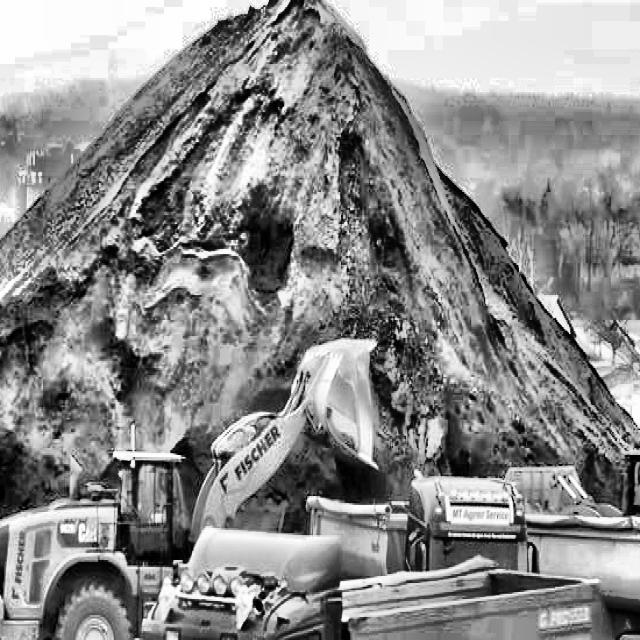buldozerpayloadergrader: (0, 332, 379, 639), (501, 448, 640, 522)
dump_truck: (85, 517, 626, 640), (303, 466, 541, 574), (521, 492, 640, 640)
